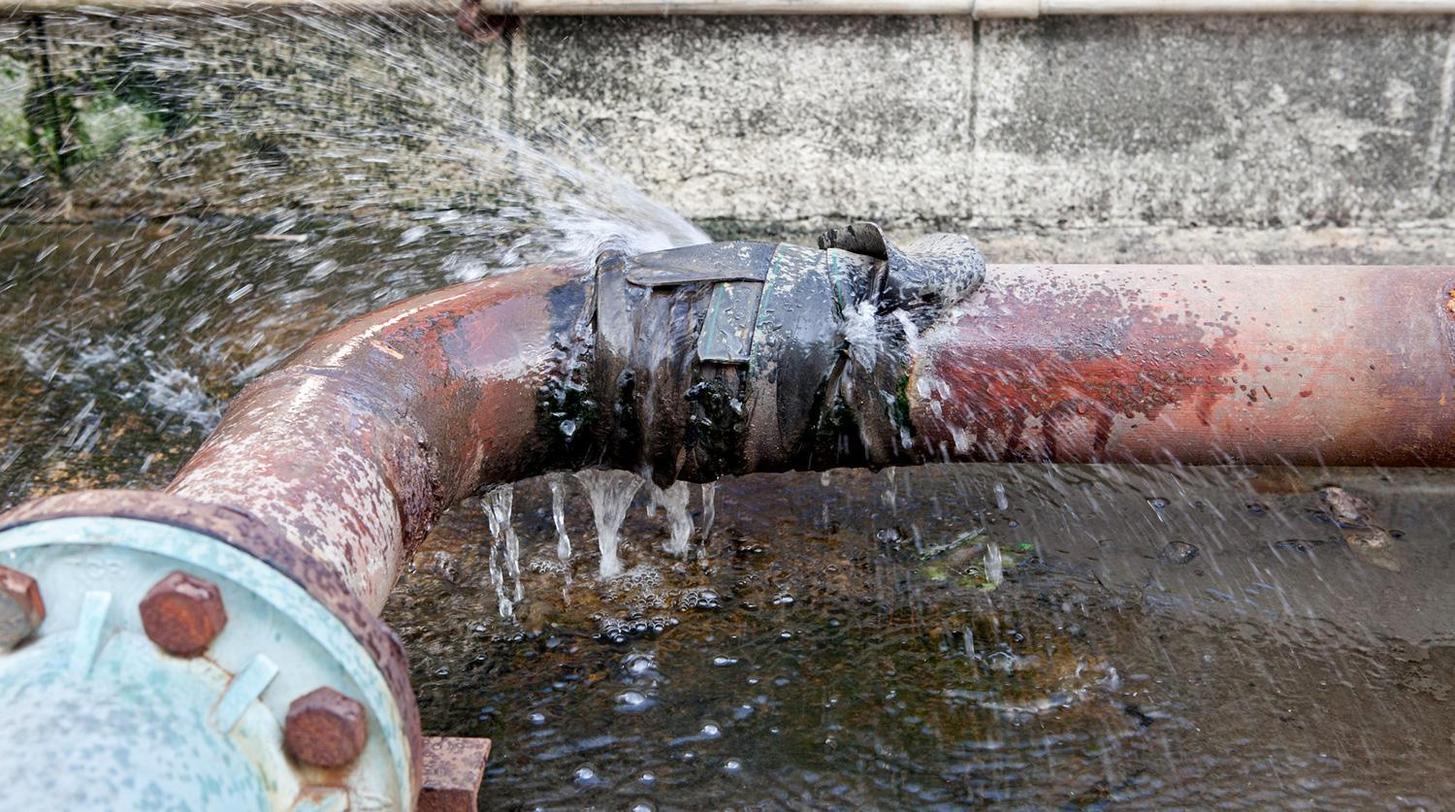pipe burst: (59, 18, 714, 292), (820, 280, 1048, 602)
water accumulation: (367, 459, 1455, 812)
